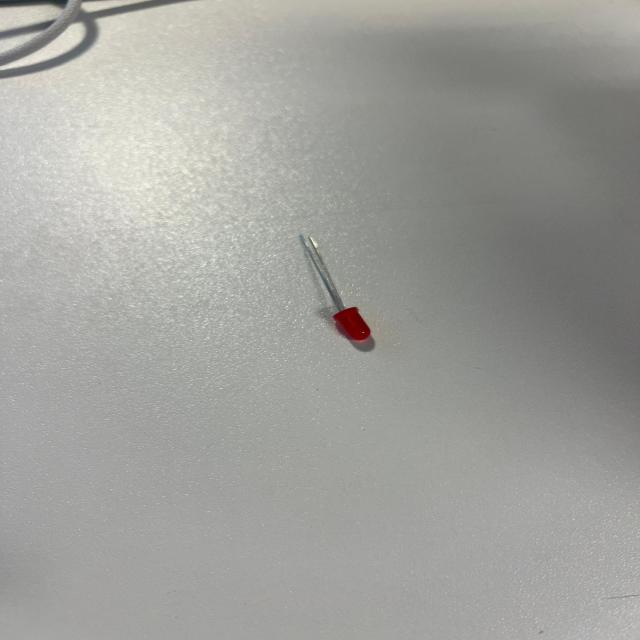REDLed: (277, 231, 404, 352)
